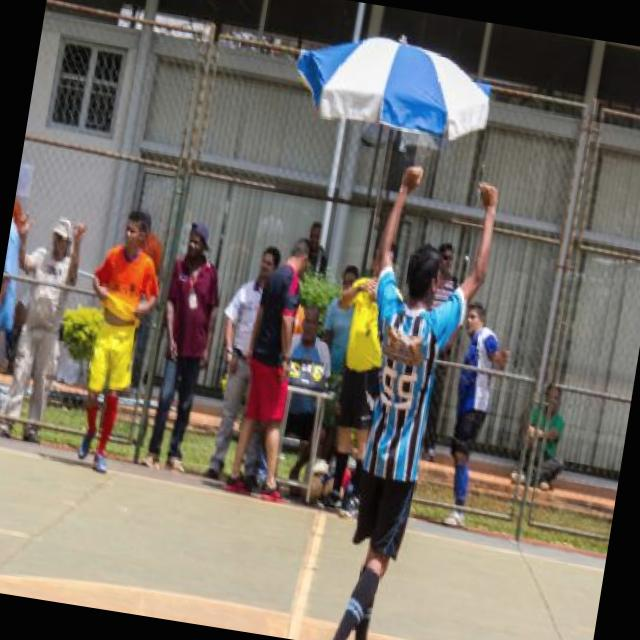Person: (315, 164, 497, 640), (308, 236, 412, 524), (56, 194, 161, 472), (222, 232, 326, 507), (140, 223, 231, 468), (198, 238, 284, 484), (0, 213, 87, 454), (434, 300, 519, 536), (278, 262, 364, 495), (246, 300, 340, 494), (402, 243, 472, 466), (0, 211, 34, 442), (508, 382, 574, 495), (299, 216, 333, 279)
